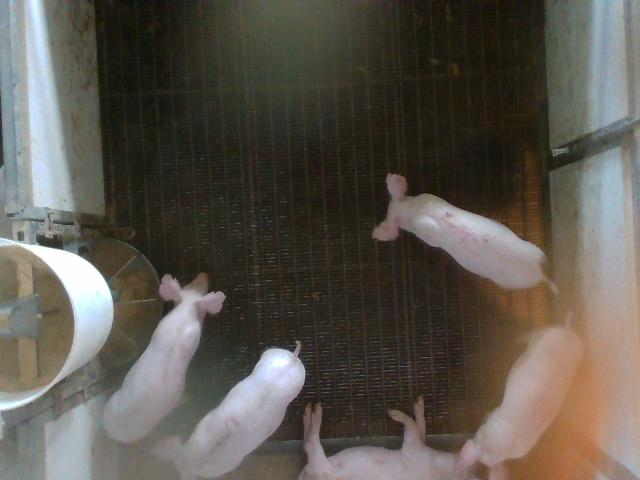pig-3: (156, 341, 305, 479)
pig-4: (459, 325, 584, 479)
pig-5: (372, 174, 548, 289)
